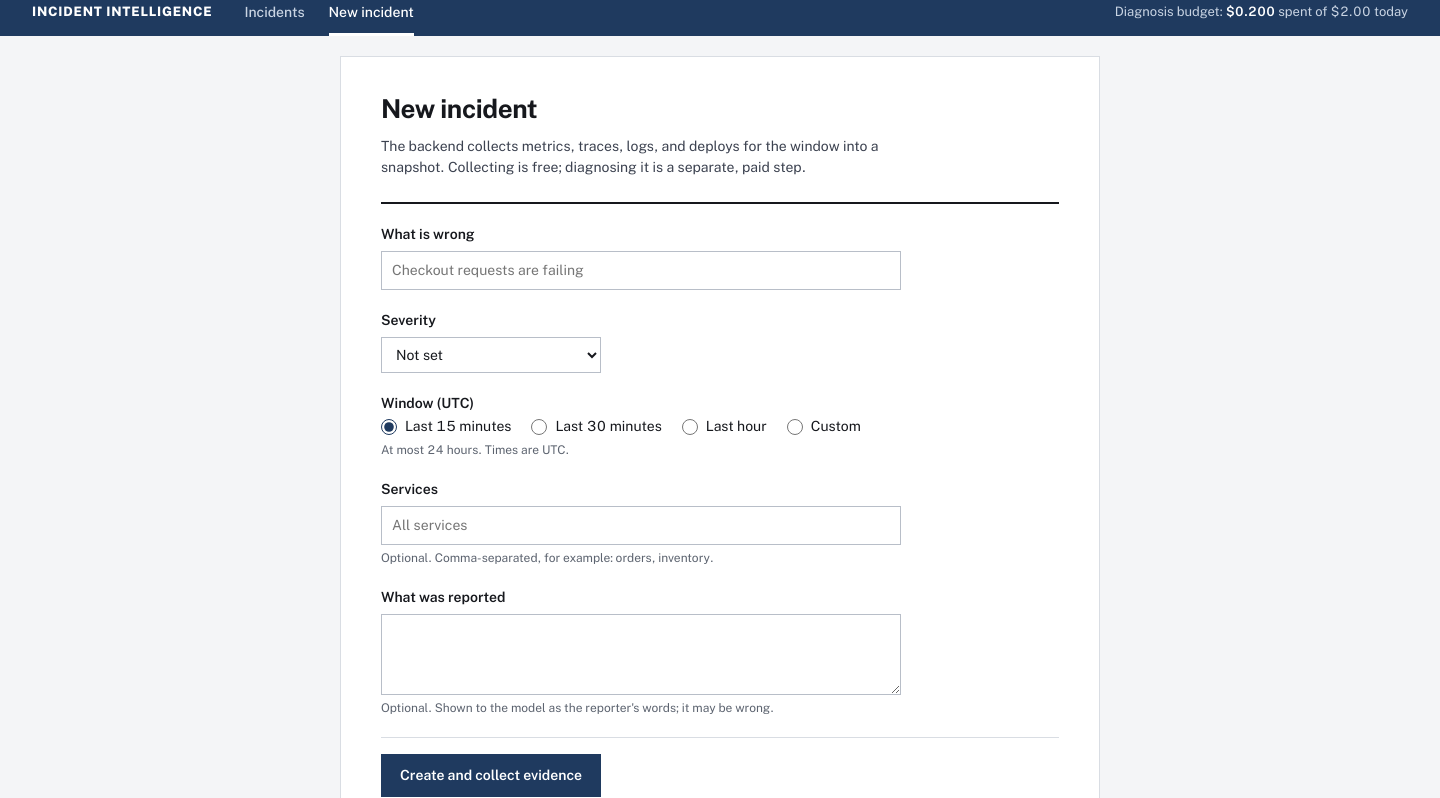
rejects a custom window that ends before it starts, without a request
Type "Something" into the field labelled "What is wrong".
click(641, 270); type("Something")  # box x1=381 y1=251 x2=901 y2=290
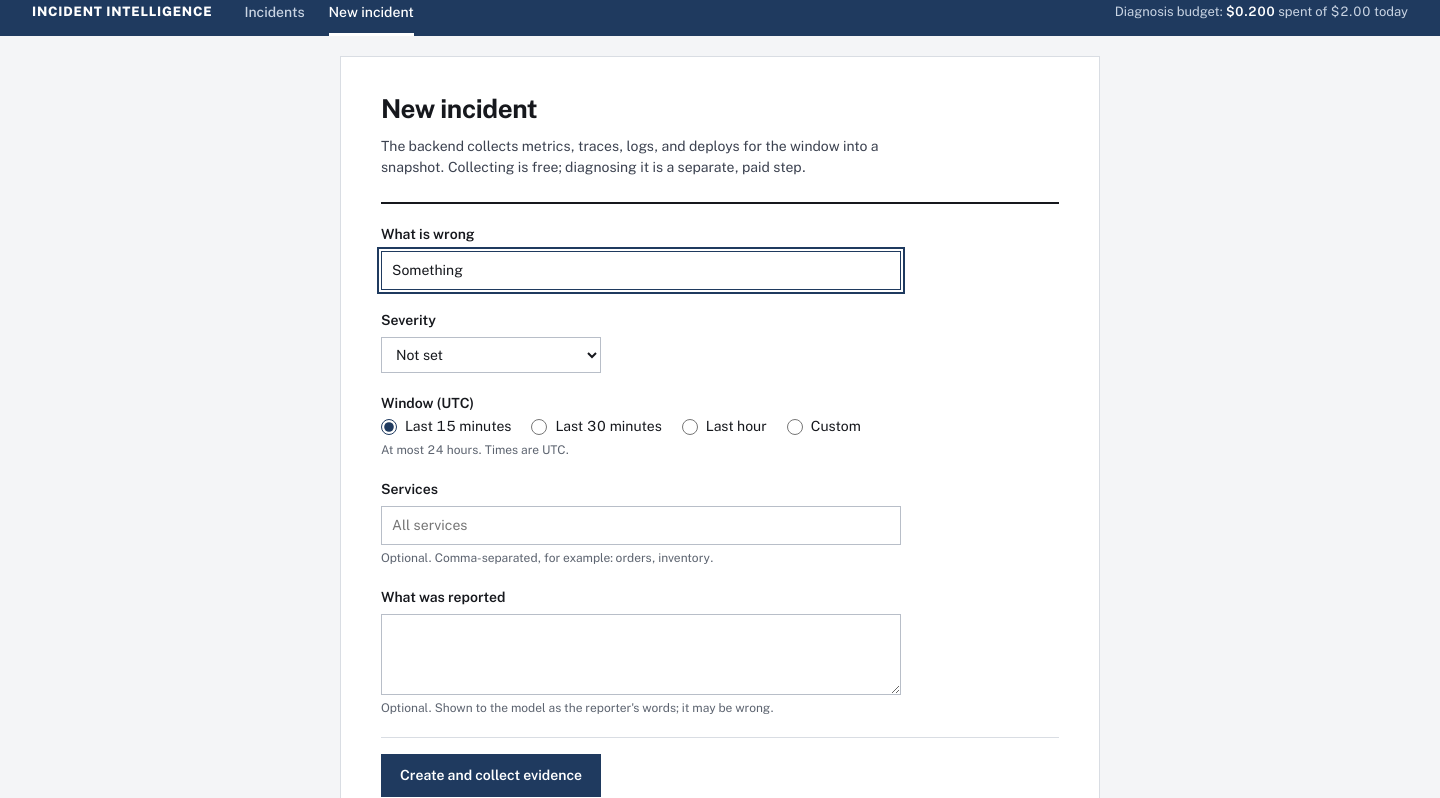
Click the radio button labelled "Custom".
click(795, 426)  # box x1=787 y1=418 x2=803 y2=434
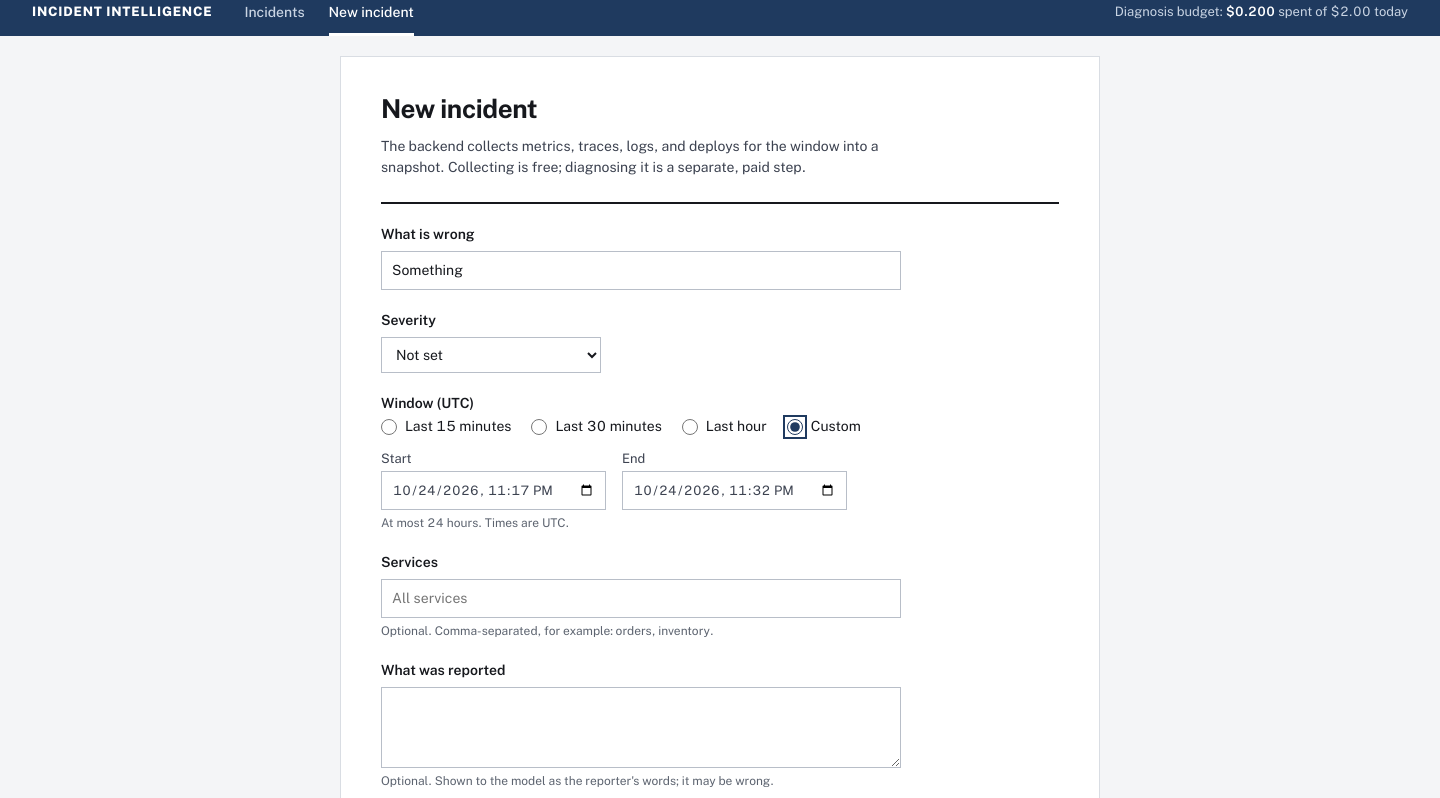
Replace the text in the field labelled "Start" with "2026-10-23T10:00" at [494, 490], box x1=381 y1=470 x2=606 y2=510
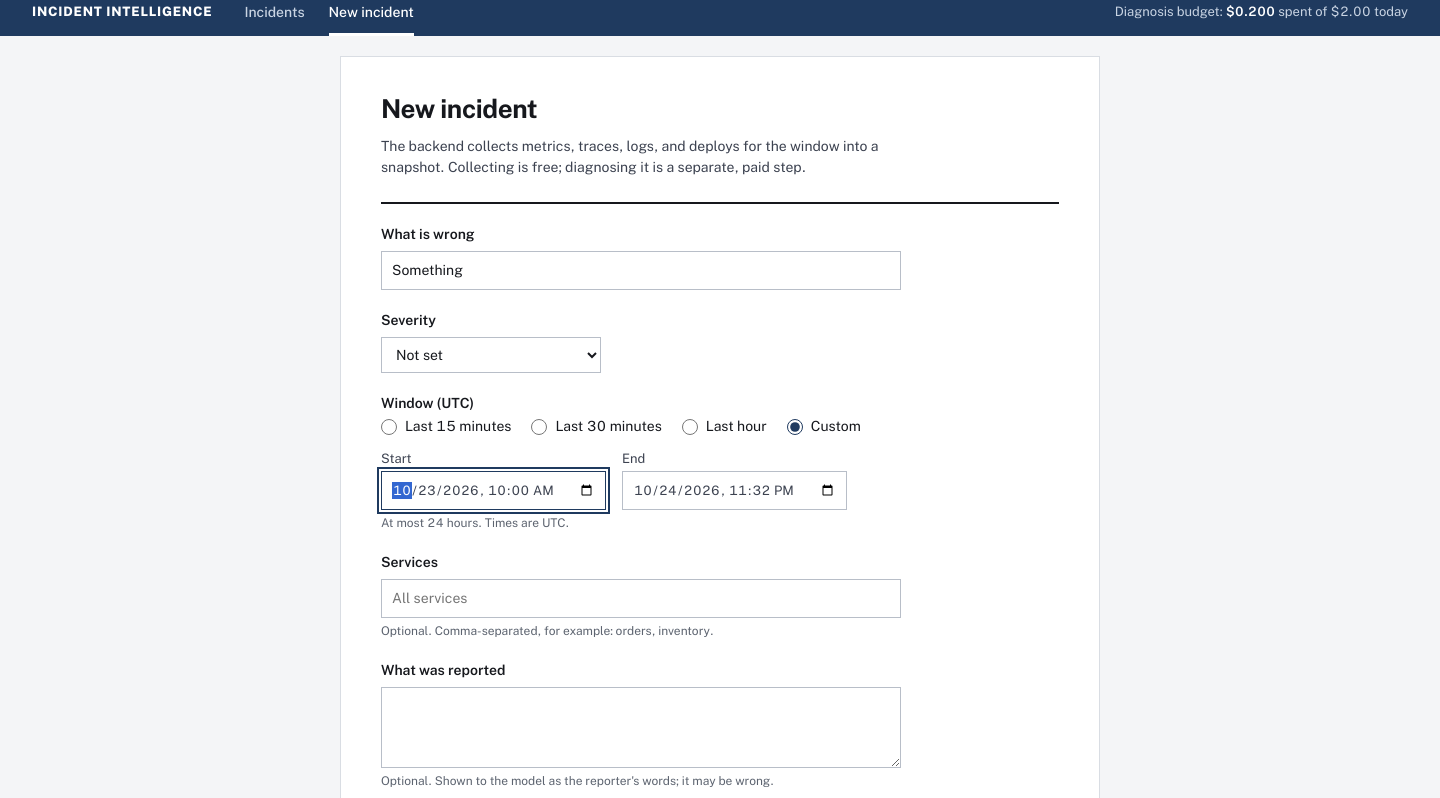
Replace the text in the field labelled "End" with "2026-10-23T09:00" at [734, 490], box x1=622 y1=470 x2=847 y2=510
(page scrolled)
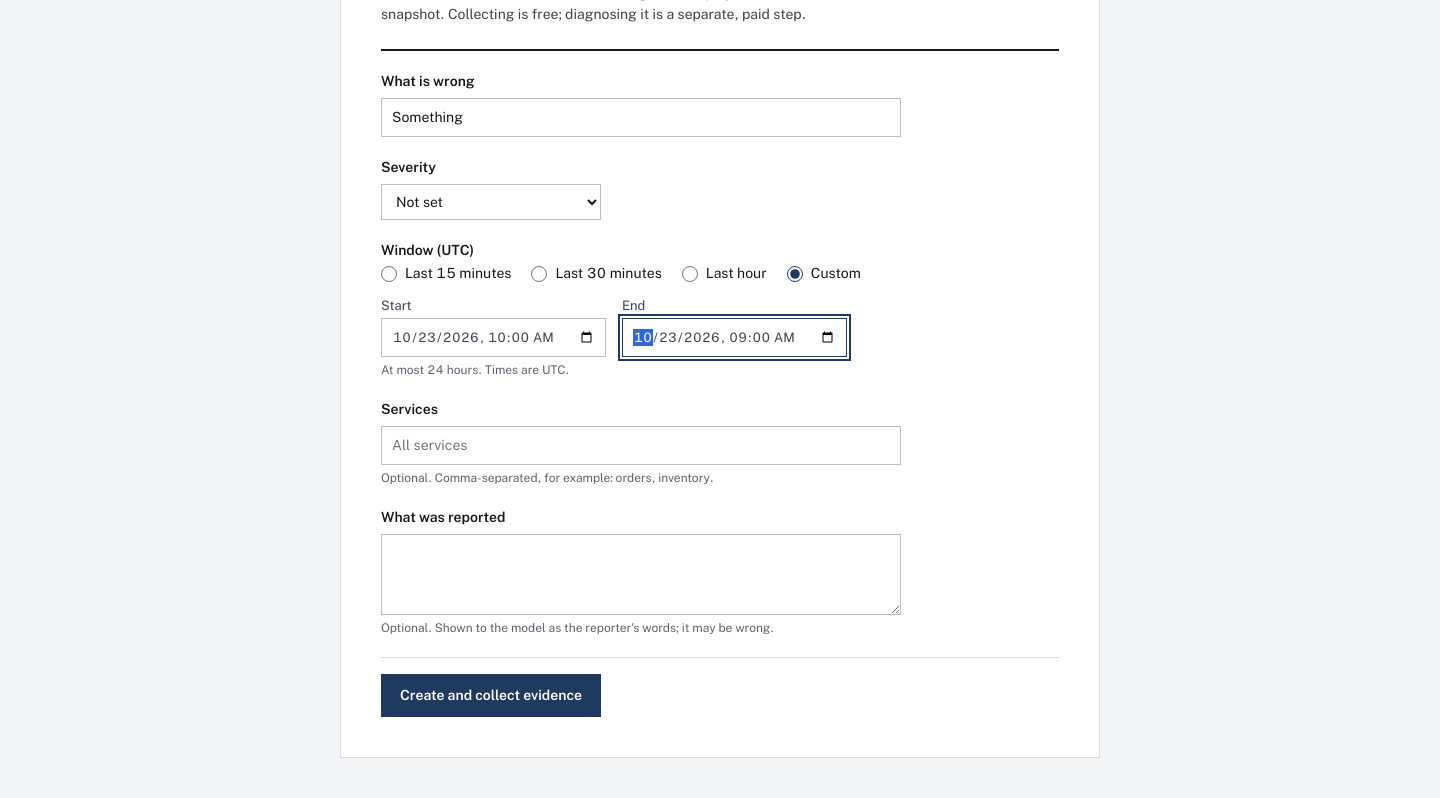
Click the button "Create and collect evidence".
click(491, 696)  # box x1=381 y1=674 x2=601 y2=717
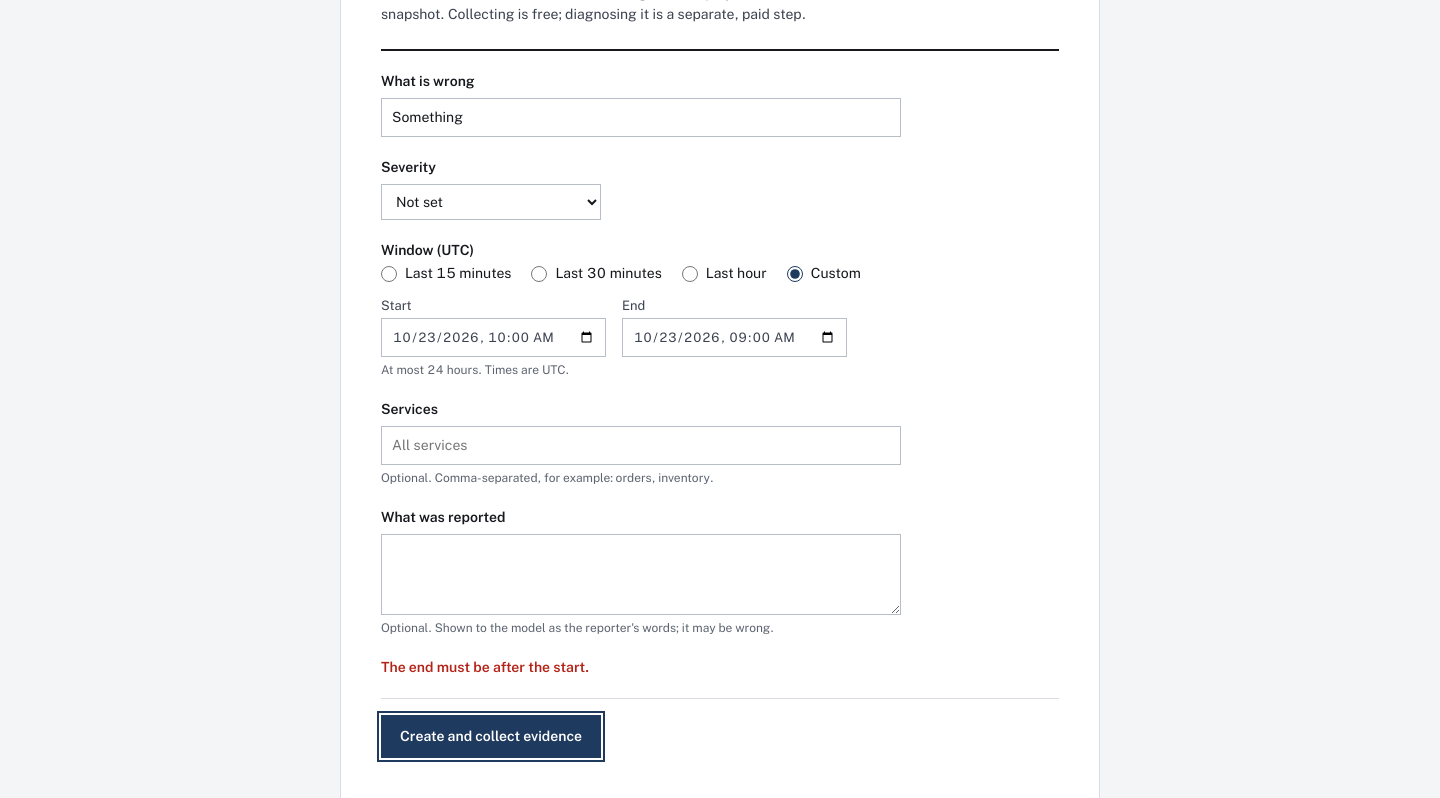
expect the message reads "The end must be after the start.": met, box x1=381 y1=659 x2=589 y2=675
